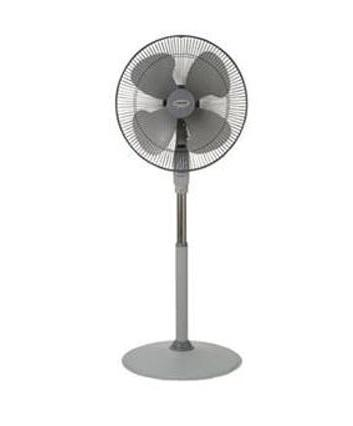fan: (103, 27, 264, 394)
